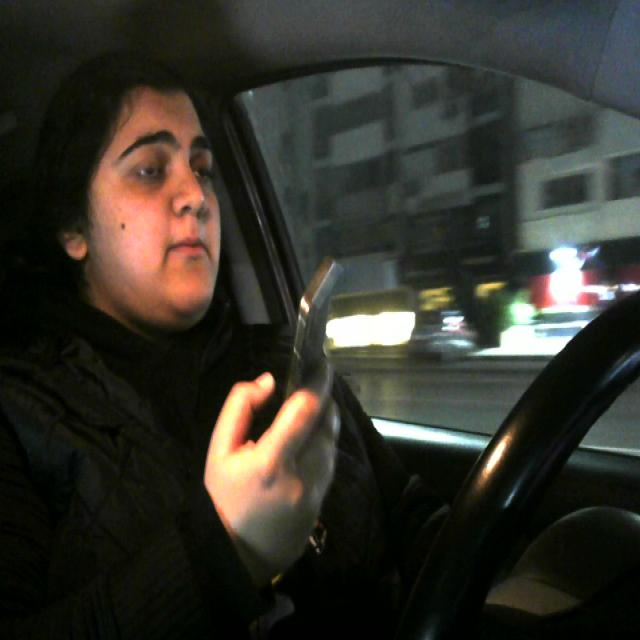mobile use: (282, 250, 349, 438)
